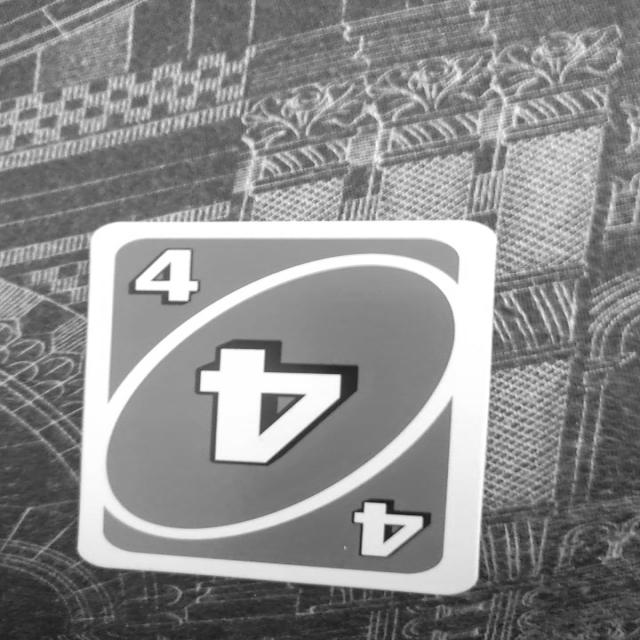card_4: (76, 219, 497, 595)
